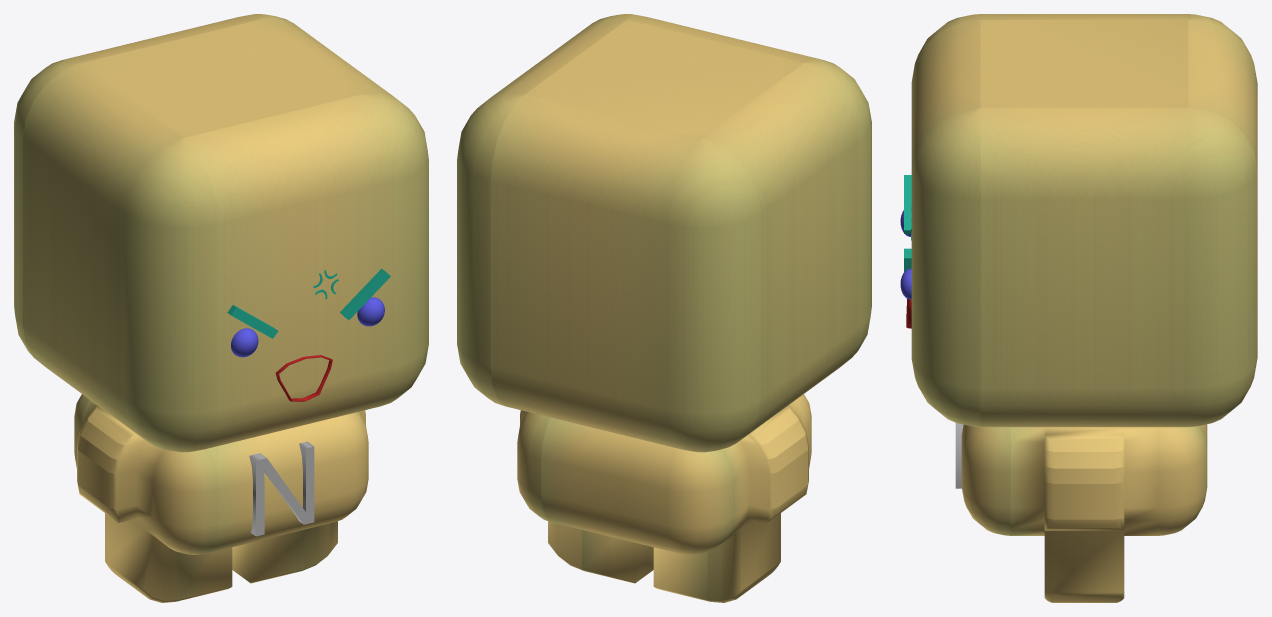
3 renders of one model, left to right at view 1: azimuth 30°, elevation 25°; view 2: azimuth 150°, elevation 25°; view 3: azimuth 270°, elevation 25°, orthographic.
Parts seen in each view (by area): view 1: Head_1, Body, Cap_1, N2, Box011, Sphere001, Sphere002, Box005, Torus001; view 2: Head_1, Body; view 3: Head_1, Body.
Boxes of the visible parts, bbox=[...] form: Head_1: bbox=[14, 14, 428, 452]; Body: bbox=[74, 394, 368, 602]; Cap_1: bbox=[256, 446, 314, 536]; N2: bbox=[249, 441, 313, 535]; Box011: bbox=[340, 268, 390, 319]; Sphere001: bbox=[231, 328, 258, 357]; Sphere002: bbox=[357, 297, 384, 326]; Box005: bbox=[227, 305, 278, 338]; Torus001: bbox=[275, 355, 332, 401]; Head_1: bbox=[457, 14, 871, 452]; Body: bbox=[517, 394, 811, 602]; Head_1: bbox=[911, 14, 1257, 427]; Body: bbox=[961, 424, 1207, 602].
Bounding box in the file's own units: 20 × 32.14 × 20.64.
5 materials, 1 textured.
